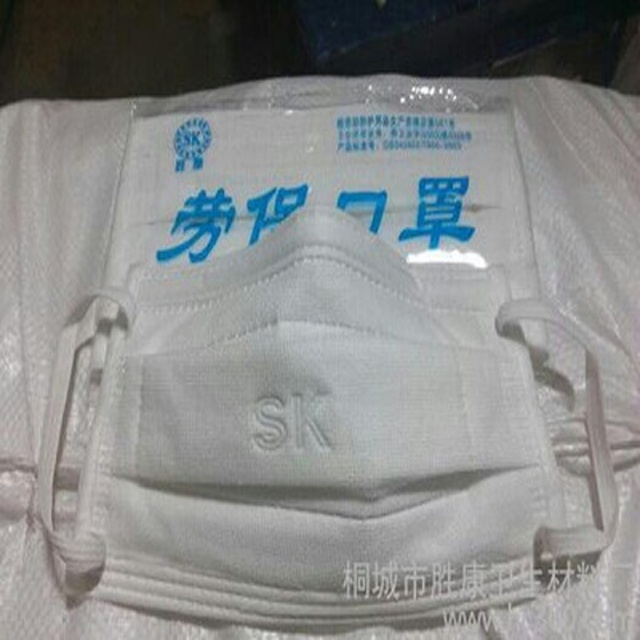mask: (38, 205, 615, 631)
